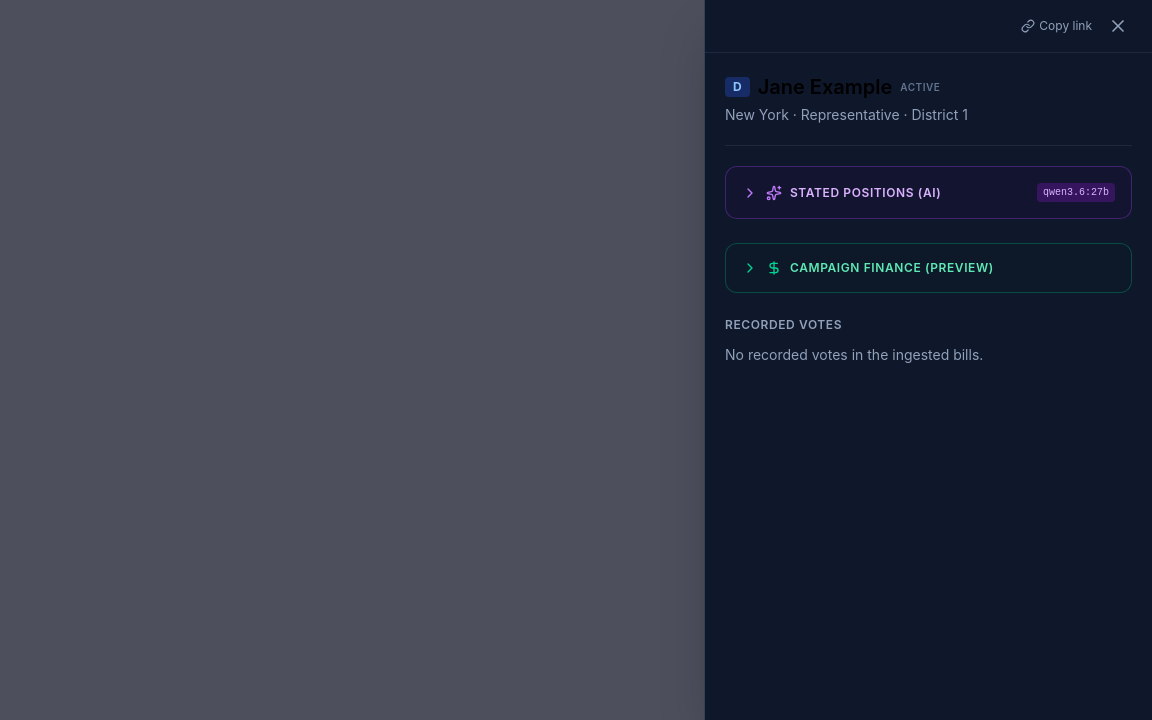
Test: MemberDrawer stated positions › renders the section for signed-in users
Check: the text "Medicaid" is not shown
Click the button "Stated Positions (AI)" at (842,192), box [742, 184, 941, 200]
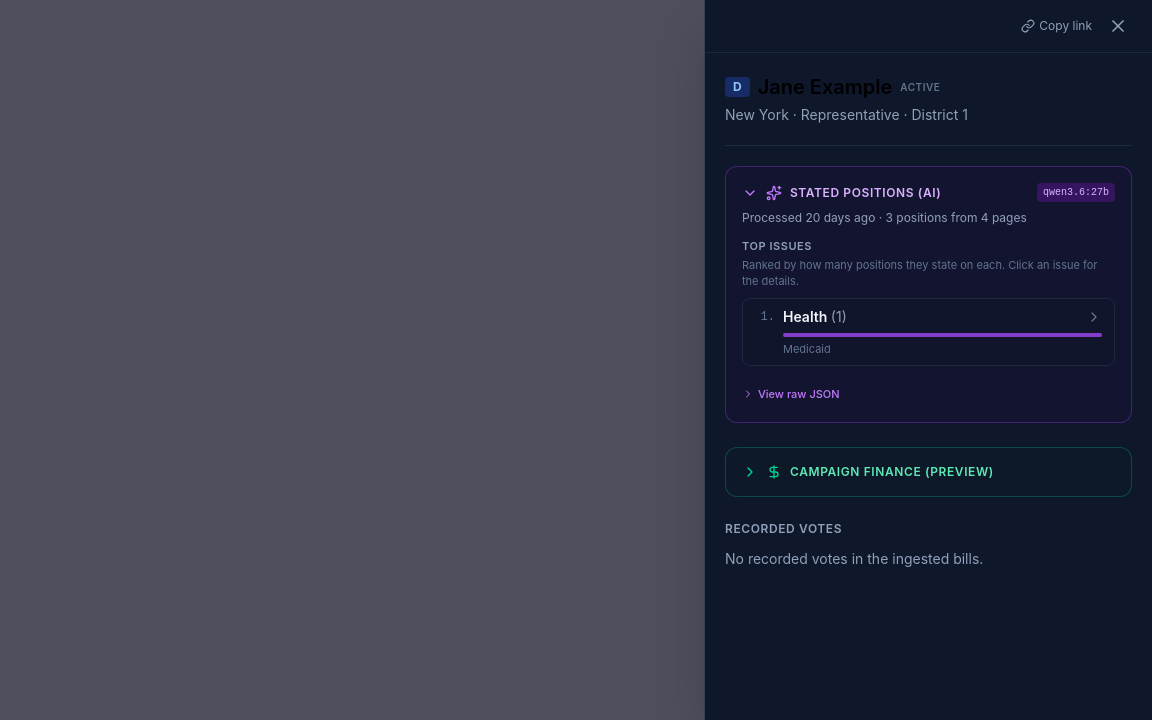
Check: the text "Medicaid" is shown, box [783, 342, 831, 356]
